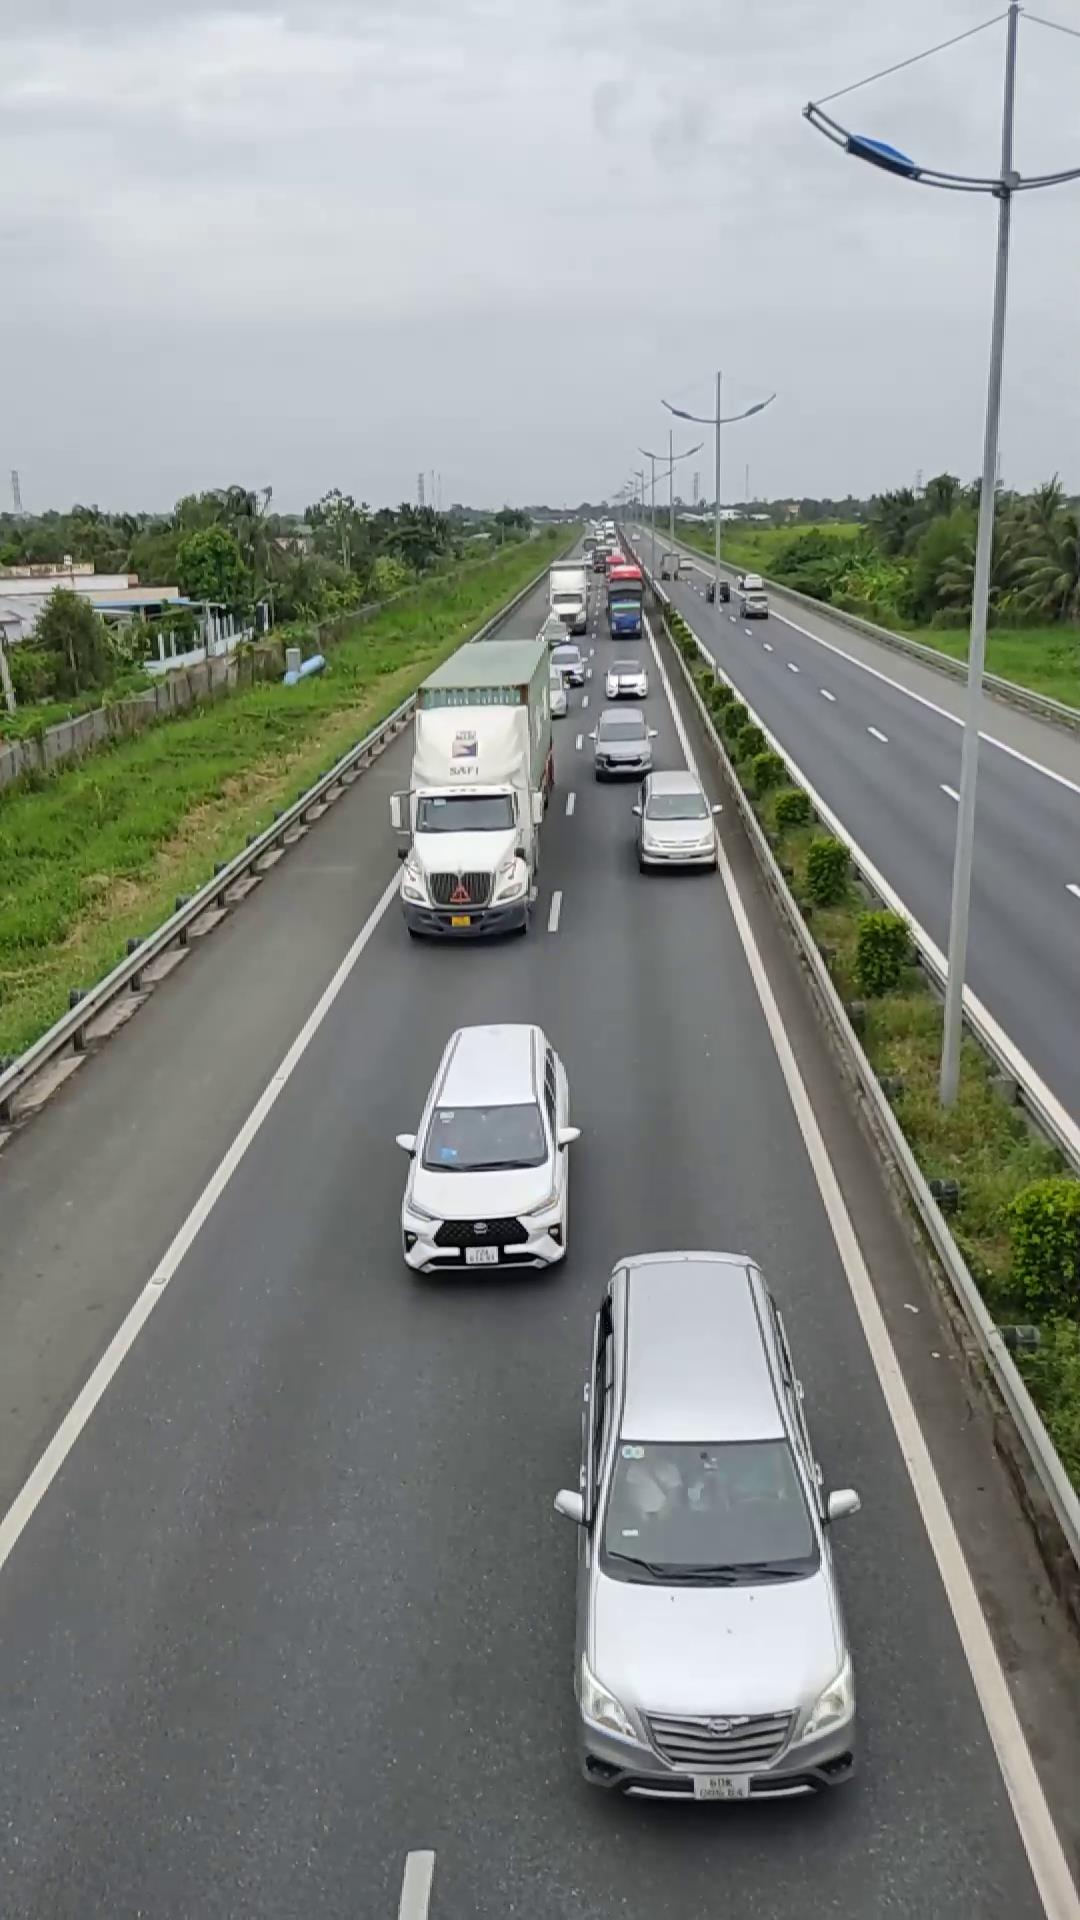car: (560, 1245, 858, 1801), (393, 1021, 579, 1278), (632, 767, 720, 872), (587, 715, 655, 781)
container: (394, 634, 555, 940)
